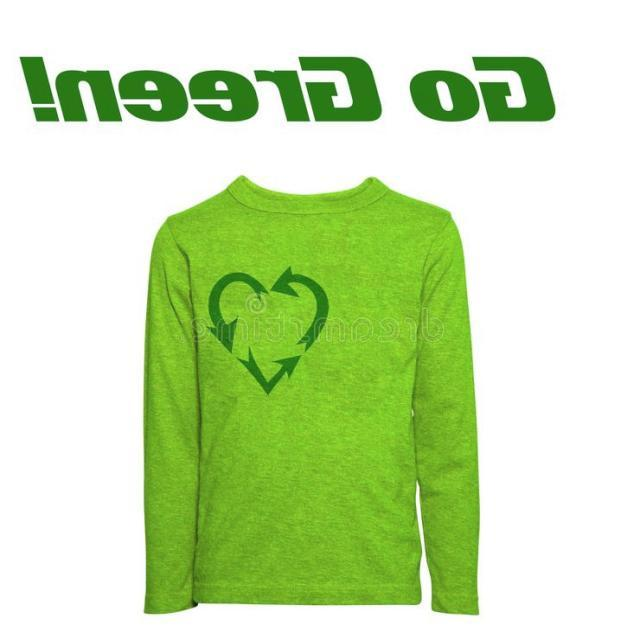clothes: (126, 157, 493, 630)
